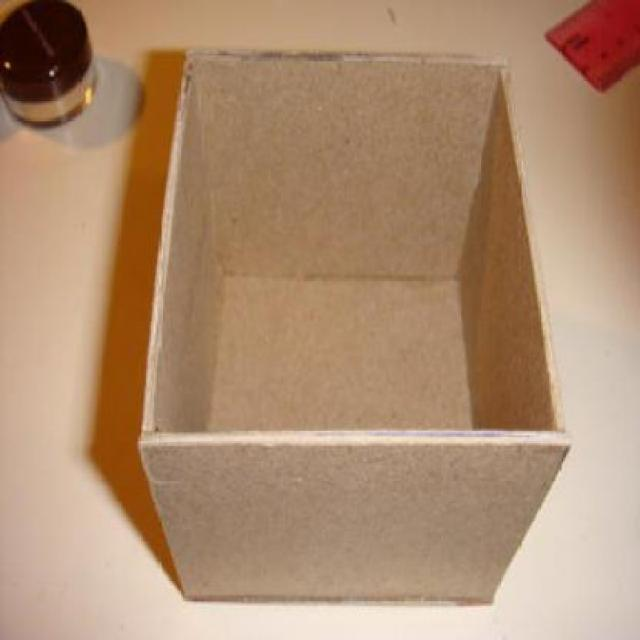box: (125, 42, 574, 618)
